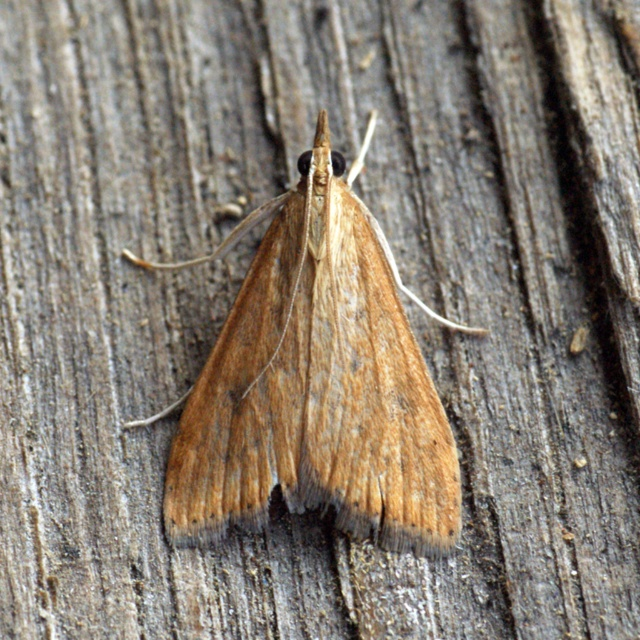Moths and butterflies: (122, 111, 487, 560)
